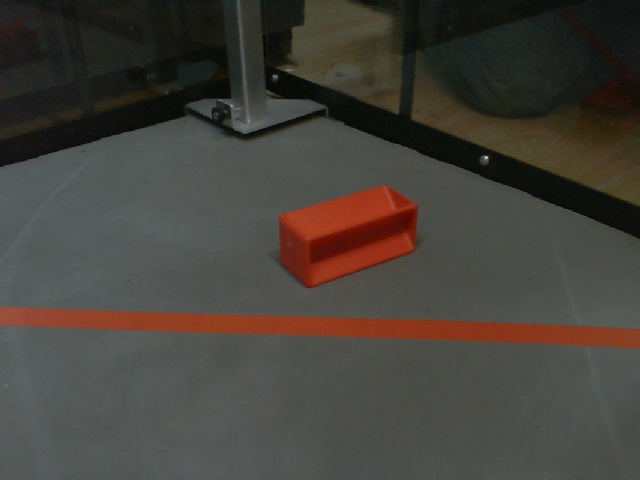RedSample: (275, 184, 423, 288)
